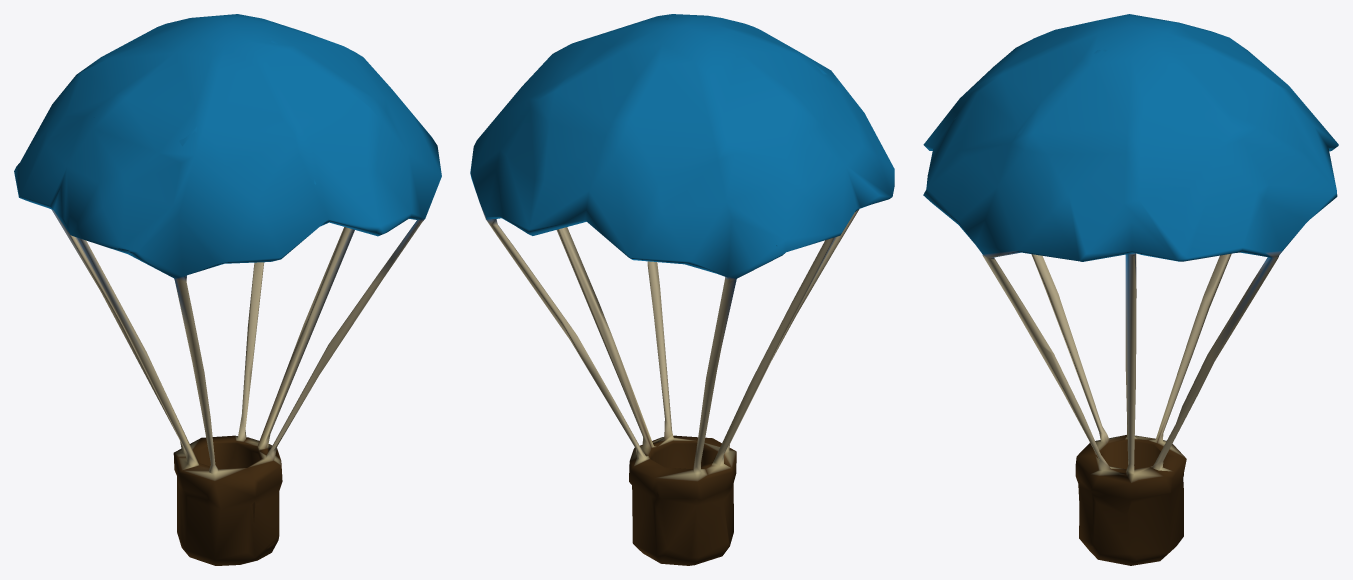
File: gen3d-parachute-lod1.glb
3 renders of one model, left to right at view 1: azimuth 30°, elevation 25°; view 2: azimuth 150°, elevation 25°; view 3: azimuth 270°, elevation 25°, orthographic.
Visible parts, largest first — view 1: part_0; view 2: part_0; view 3: part_0.
Part boxes in pixels (x1,y1,x2,y2): part_0: [14, 14, 441, 565]; part_0: [470, 14, 894, 565]; part_0: [923, 14, 1338, 565].
Size of the model in its own units: 0.7211 by 0.9967 by 0.7096.
